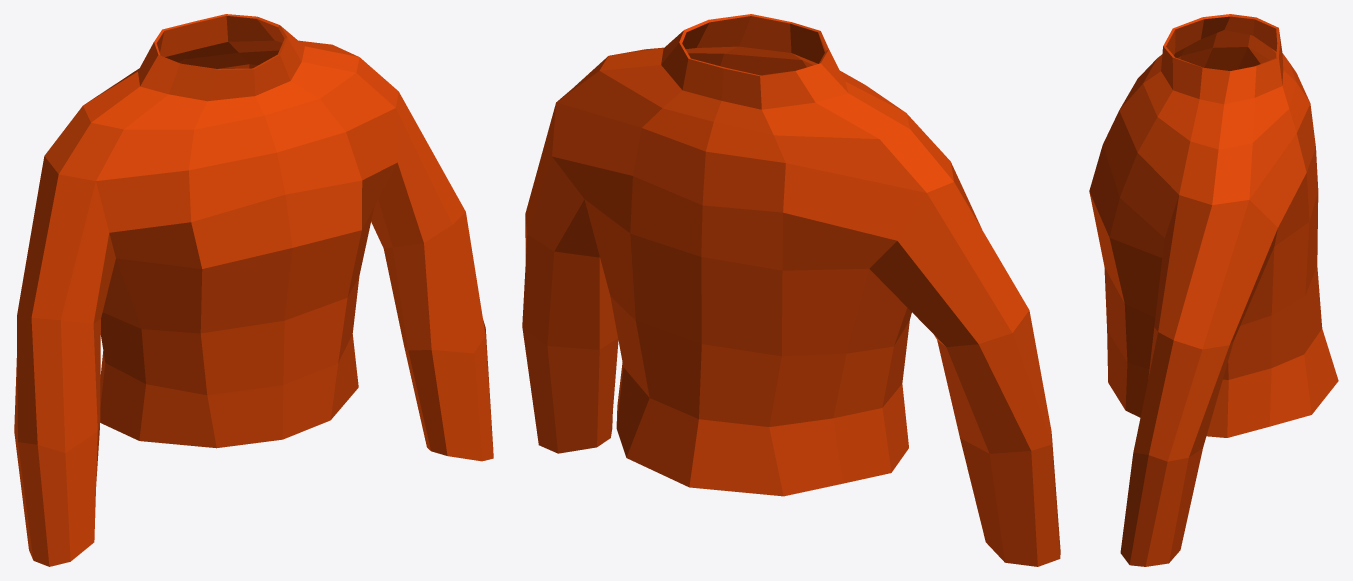
The model's file is Shirt3.fbx.
3 views of the same model, side by side, from view 1: azimuth 30°, elevation 25°; view 2: azimuth 150°, elevation 25°; view 3: azimuth 270°, elevation 25° (orthographic). The views are drawn at different scales.
Visible parts, largest first — view 1: Shirt3; view 2: Shirt3; view 3: Shirt3.
Boxes of the visible parts, box(x1,y1,x2,y2) form: Shirt3: box(14, 14, 493, 566); Shirt3: box(522, 14, 1060, 566); Shirt3: box(1089, 14, 1338, 566).
Size of the model in its own units: 168 by 149 by 80.47.
